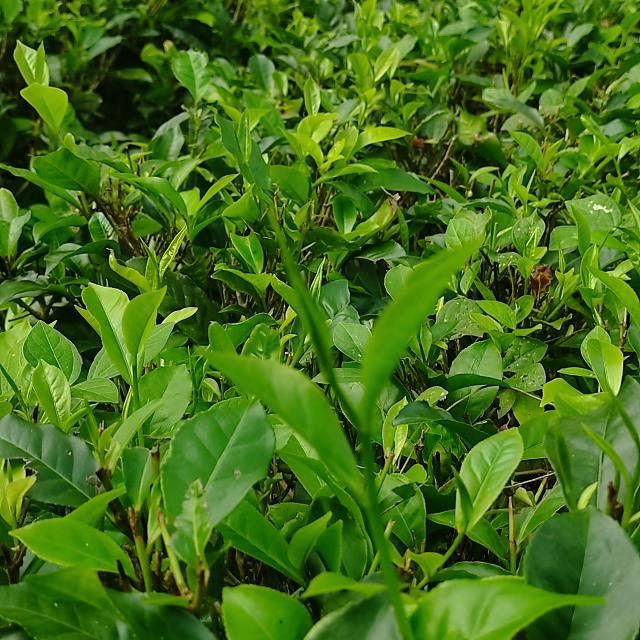unopened_leaf: (260, 195, 368, 442), (580, 419, 632, 511), (602, 377, 640, 455), (449, 460, 473, 524)
